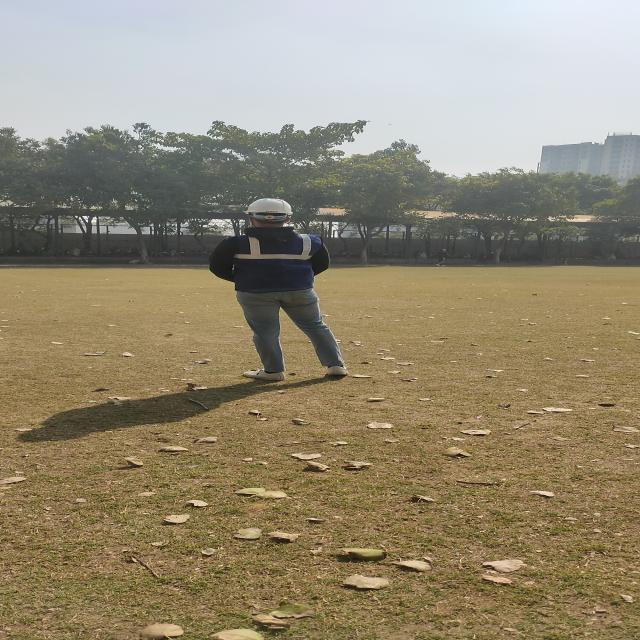safe: (210, 198, 343, 380)
